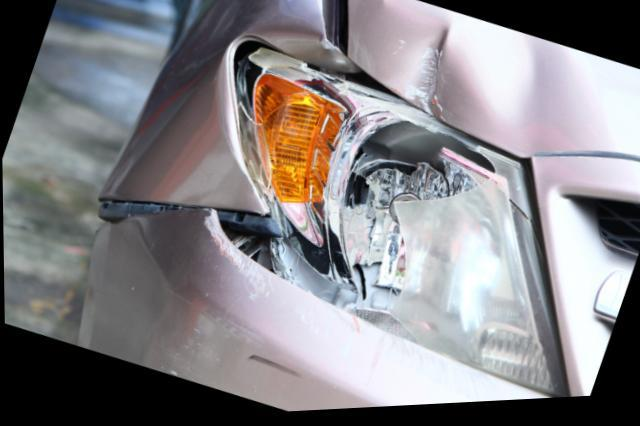dent: (358, 0, 608, 163)
dislocated part: (89, 0, 378, 224)
lamp broken: (234, 45, 566, 404)
scratch: (198, 210, 276, 307), (239, 356, 302, 384)
